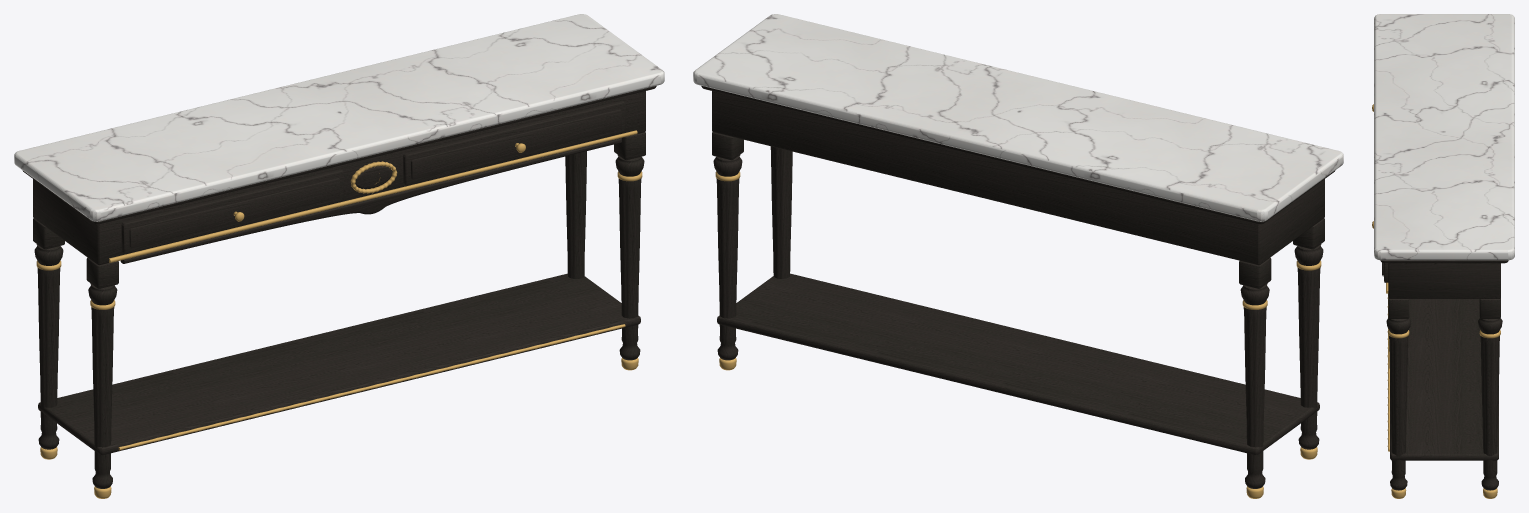
File: console-160.glb
The picture shows the model from 3 angles, left to right: view 1: azimuth 30°, elevation 25°; view 2: azimuth 150°, elevation 25°; view 3: azimuth 270°, elevation 25°; orthographic projection. The views are drawn at different scales.
Bounding box in the file's own units: 1.6 × 0.8 × 0.406.
3 materials, 2 textured.
